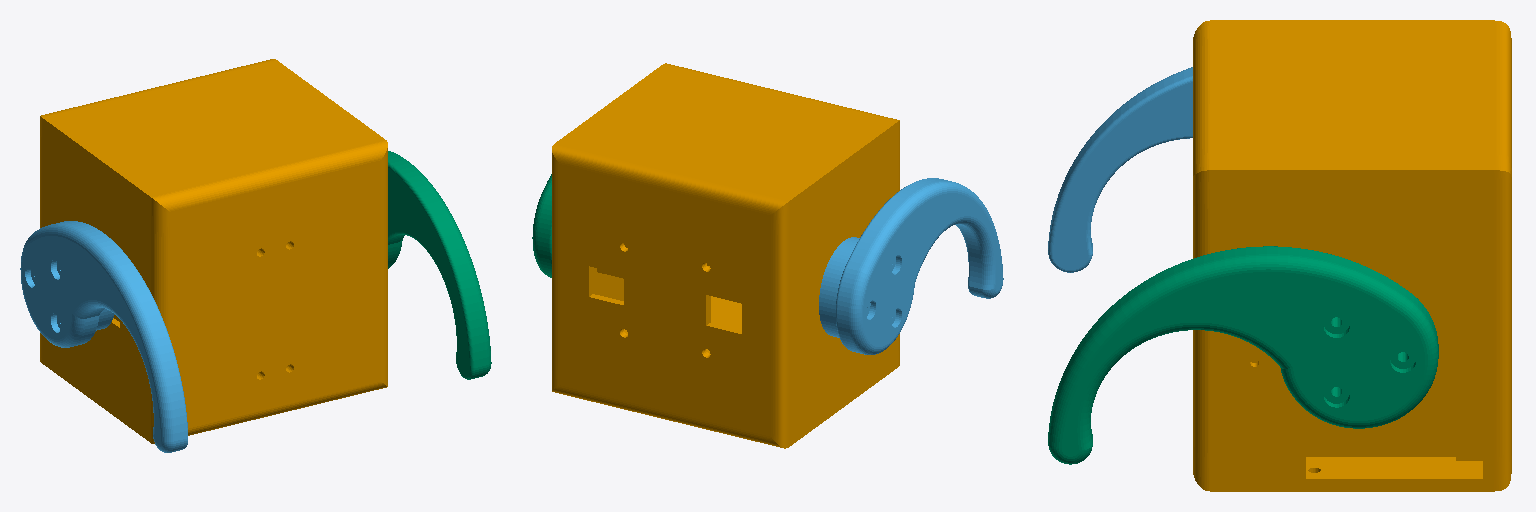
robot.urdf — goron:
<?xml version="1.0"?>
<robot name="goron">
  <mujoco>
    <compiler meshdir="stl/" discardvisual="false" balanceinertia="true"/>
  </mujoco>
  <link name="base_link">
    <inertial>
      <origin xyz="-0.000237 0.030193 -0.000854"/>
      <mass value="0.28590"/>
      <inertia ixx="3.2346e-04" ixy="4.1388e-07" ixz="-2.2208e-07" iyy="3.4242e-04" iyz="1.3147e-05" izz="2.6914e-04"/>
    </inertial>
    <visual><origin xyz="0 0 0"/><geometry><mesh filename="body_bottom.stl" scale="0.001 0.001 0.001"/></geometry></visual>
    <visual><origin xyz="0 0 0"/><geometry><mesh filename="body_upper.stl" scale="0.001 0.001 0.001"/></geometry></visual>
    <visual><origin xyz="0 0 0"/><geometry><mesh filename="m5stack.stl" scale="0.001 0.001 0.001"/></geometry></visual>
    <visual><origin xyz="0 0 0"/><geometry><mesh filename="bat.stl" scale="0.001 0.001 0.001"/></geometry></visual>
    <visual><origin xyz="0 0 0"/><geometry><mesh filename="servo_left.stl" scale="0.001 0.001 0.001"/></geometry></visual>
    <visual><origin xyz="0 0 0"/><geometry><mesh filename="servo_right.stl" scale="0.001 0.001 0.001"/></geometry></visual>
  </link>
  <joint name="hip_left" type="continuous">
    <parent link="base_link"/>
    <child link="leg_left"/>
    <origin xyz="0 0.035000 0.000000"/>
    <axis xyz="1 0 0"/>
    <limit effort="0.52" velocity="10.79"/>
    <dynamics damping="0.0482"/>
  </joint>
  <link name="leg_left">
    <inertial>
      <origin xyz="-0.050440 -0.016402 0.003452"/>
      <mass value="0.00900"/>
      <inertia ixx="6.0563e-06" ixy="-2.1045e-07" ixz="4.7400e-08" iyy="1.2843e-06" iyz="-9.3787e-08" izz="5.0326e-06"/>
    </inertial>
    <visual><origin xyz="0 -0.035000 -0.000000"/><geometry><mesh filename="leg_left.stl" scale="0.001 0.001 0.001"/></geometry></visual>
    <visual><origin xyz="0 -0.035000 -0.000000"/><geometry><mesh filename="servo_joint_left.stl" scale="0.001 0.001 0.001"/></geometry></visual>
  </link>
  <joint name="hip_right" type="continuous">
    <parent link="base_link"/>
    <child link="leg_right"/>
    <origin xyz="0 0.035000 0.000000"/>
    <axis xyz="1 0 0"/>
    <limit effort="0.52" velocity="10.79"/>
    <dynamics damping="0.0482"/>
  </joint>
  <link name="leg_right">
    <inertial>
      <origin xyz="0.050430 -0.016381 0.003448"/>
      <mass value="0.00900"/>
      <inertia ixx="6.0522e-06" ixy="2.1178e-07" ixz="-4.7676e-08" iyy="1.2839e-06" iyz="-9.3014e-08" izz="5.0303e-06"/>
    </inertial>
    <visual><origin xyz="0 -0.035000 -0.000000"/><geometry><mesh filename="leg_right.stl" scale="0.001 0.001 0.001"/></geometry></visual>
    <visual><origin xyz="0 -0.035000 -0.000000"/><geometry><mesh filename="servo_joint_right.stl" scale="0.001 0.001 0.001"/></geometry></visual>
  </link>
</robot>

--- Render facts (derived) ---
Views: 3 orthographic renders of the robot side by side, from view 1: azimuth 30°, elevation 25°; view 2: azimuth 150°, elevation 25°; view 3: azimuth 270°, elevation 25°.
Model goron with 3 links and 2 joints (2 continuous), rooted at base_link, posed every joint at zero.
Links seen in each view (by area): view 1: base_link, leg_left, leg_right; view 2: base_link, leg_left, leg_right; view 3: base_link, leg_right, leg_left.
Boxes of the visible links, x1,y1,x2,y2 form: base_link: [40, 59, 387, 443]; leg_left: [20, 221, 187, 452]; leg_right: [388, 151, 491, 379]; base_link: [552, 63, 899, 448]; leg_left: [819, 178, 1003, 354]; leg_right: [532, 174, 551, 277]; base_link: [1193, 20, 1511, 491]; leg_right: [1048, 246, 1438, 464]; leg_left: [1048, 67, 1192, 272].
Size in the robot's own frame: 0.112 by 0.1046 by 0.08 metres.
10 mesh visuals loaded from 10 distinct referenced files (10 binary STL).
